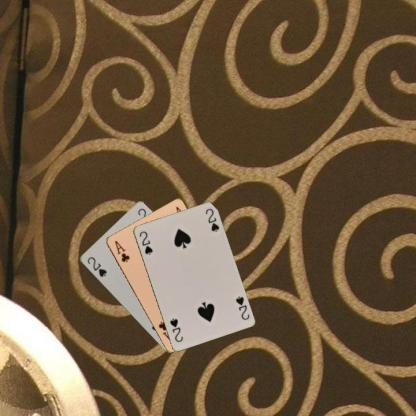2s: (84, 254, 108, 279), (136, 228, 154, 256), (233, 294, 250, 321)
Ac: (112, 238, 131, 264)
